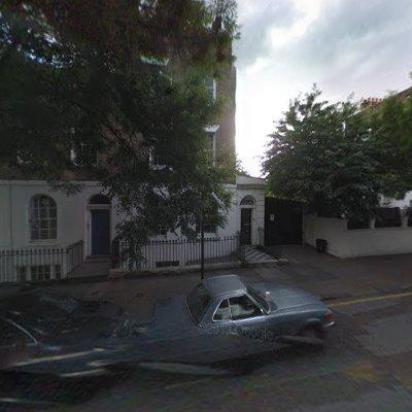stationary-car-onstreet: (146, 273, 335, 365), (0, 281, 134, 391)
